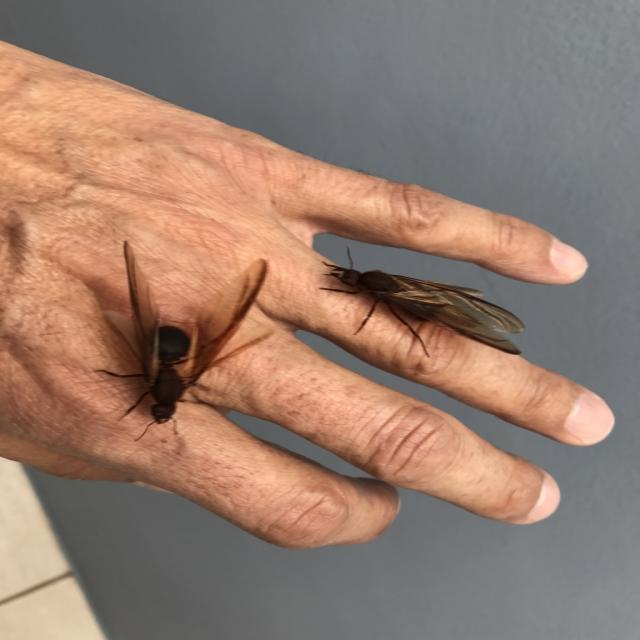Alive-Female-Alate: (94, 239, 275, 442), (318, 246, 524, 357)
